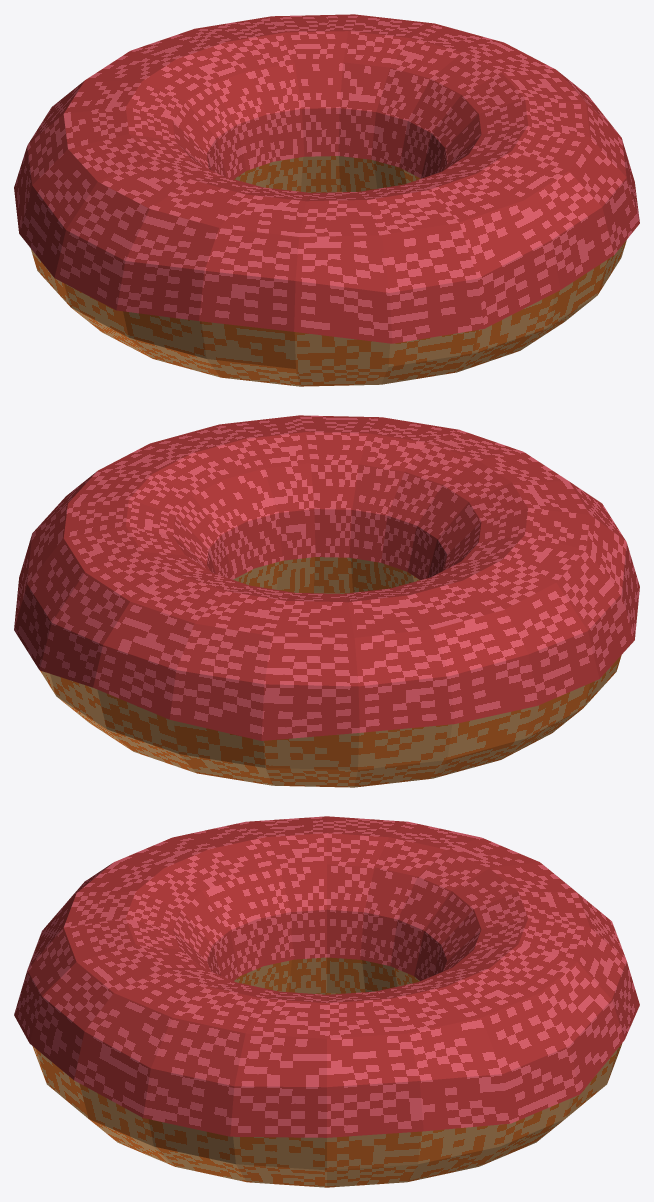
The model's file is donut_1.glb.
The picture shows the model from 3 angles, top to bottom: view 1: azimuth 30°, elevation 25°; view 2: azimuth 150°, elevation 25°; view 3: azimuth 270°, elevation 25°; orthographic projection.
Parts seen in each view (by area): view 1: doughnut_ps_baked; view 2: doughnut_ps_baked; view 3: doughnut_ps_baked.
Boxes of the visible parts, x1=… form: doughnut_ps_baked: x1=14, y1=14, x2=639, y2=386; doughnut_ps_baked: x1=14, y1=415, x2=639, y2=787; doughnut_ps_baked: x1=14, y1=816, x2=639, y2=1187.
Bounding box in the file's own units: 1.28 × 0.3887 × 1.28.
Materials: 1 (1 with a texture image).
